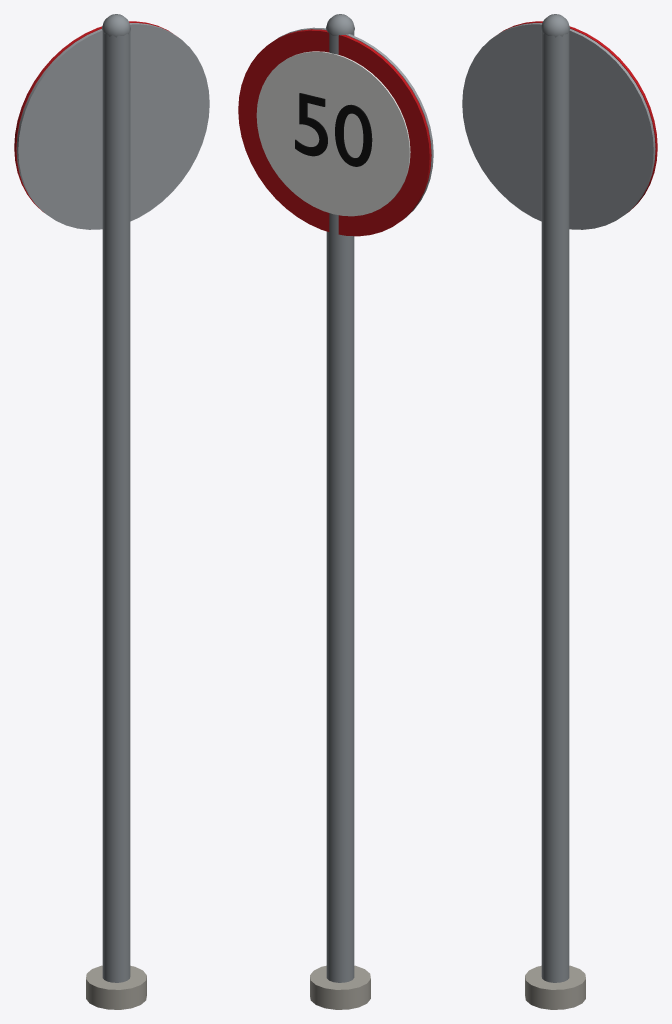
Rendered from Sign_Speed50.fbx.
3 views of the same model, side by side, from view 1: azimuth 30°, elevation 25°; view 2: azimuth 150°, elevation 25°; view 3: azimuth 330°, elevation 25° (orthographic).
Visible parts, largest first — view 1: Sign_Speed50_Mesh; view 2: Sign_Speed50_Mesh; view 3: Sign_Speed50_Mesh.
Part boxes in pixels (box(x1,y1,x2,y2)): Sign_Speed50_Mesh: box(14, 14, 209, 1009); Sign_Speed50_Mesh: box(238, 14, 433, 1009); Sign_Speed50_Mesh: box(462, 14, 657, 1009).
Size of the model in its own units: 0.6 by 2.94 by 0.1672.
